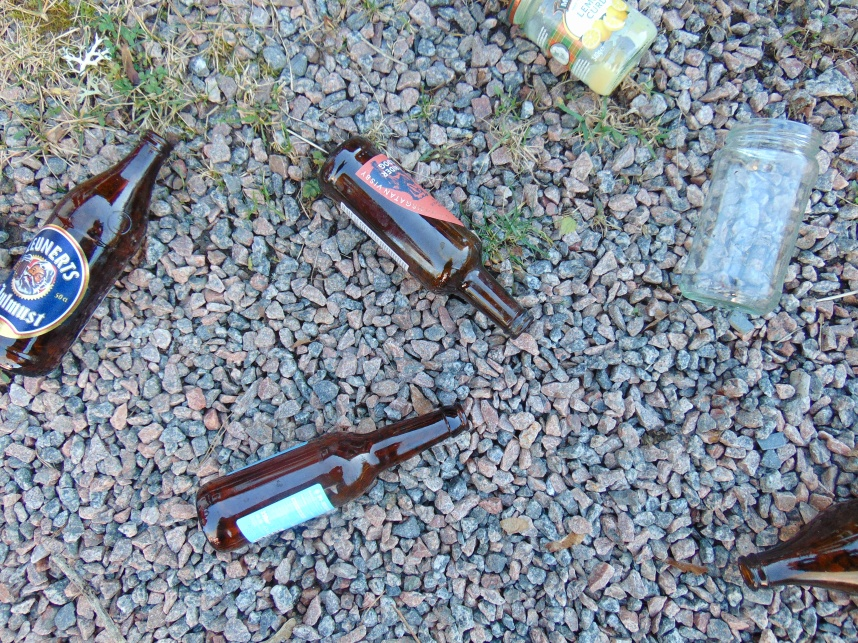glass_bottle: (317, 134, 537, 341), (1, 125, 174, 380), (196, 402, 474, 553), (680, 120, 830, 318), (512, 1, 654, 97), (737, 495, 858, 594)
